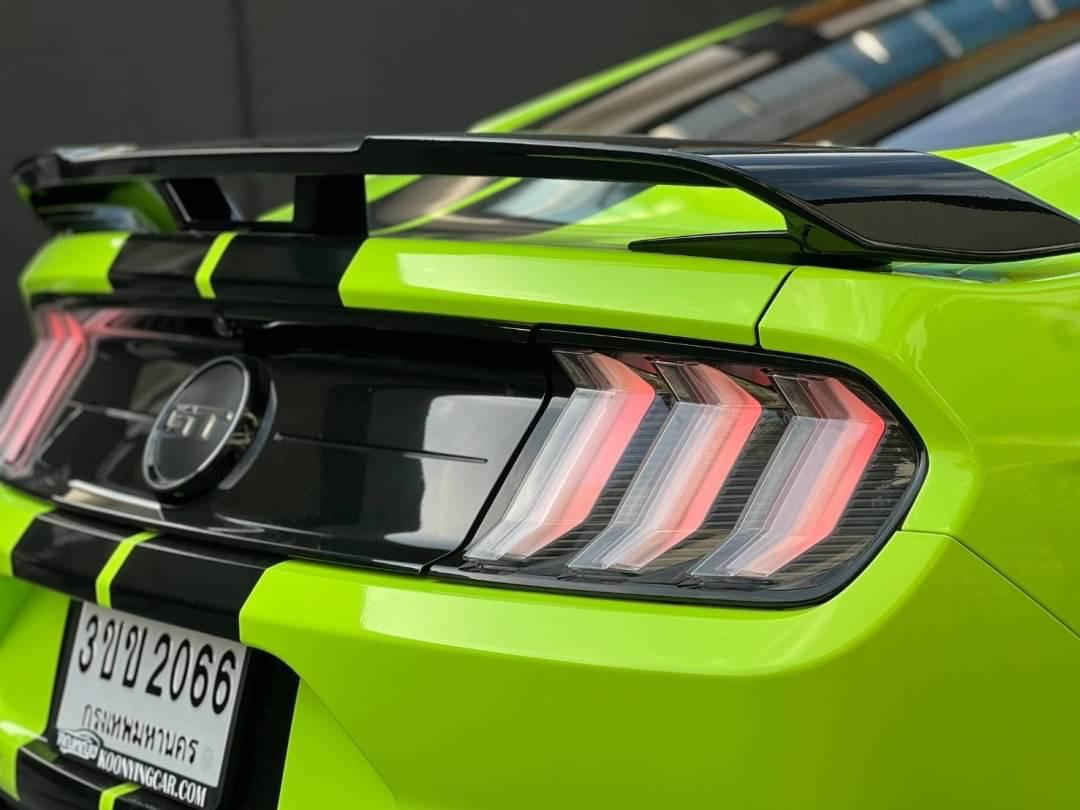license-plate: (37, 593, 259, 810)
